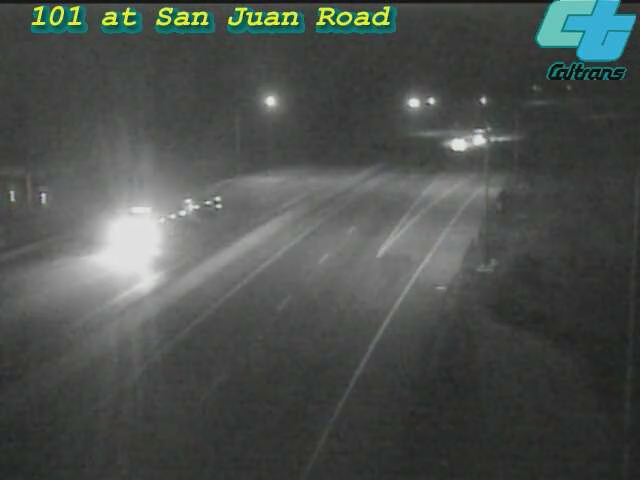vehicle: (105, 186, 185, 266), (458, 110, 508, 160), (435, 118, 485, 168)
